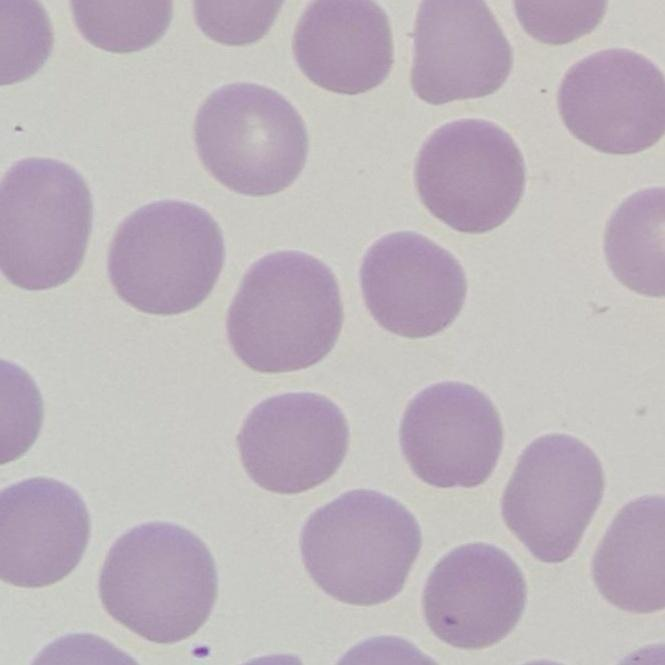Uninfected: (102, 519, 222, 644), (298, 489, 421, 610), (105, 197, 222, 317), (230, 254, 345, 373), (500, 432, 601, 563), (197, 79, 306, 197), (418, 117, 526, 234), (0, 159, 92, 287), (420, 537, 524, 650), (235, 394, 351, 493), (557, 47, 663, 152), (362, 231, 465, 338), (407, 0, 513, 103), (400, 382, 499, 486), (0, 474, 86, 591), (590, 497, 665, 611), (298, 1, 389, 94)
